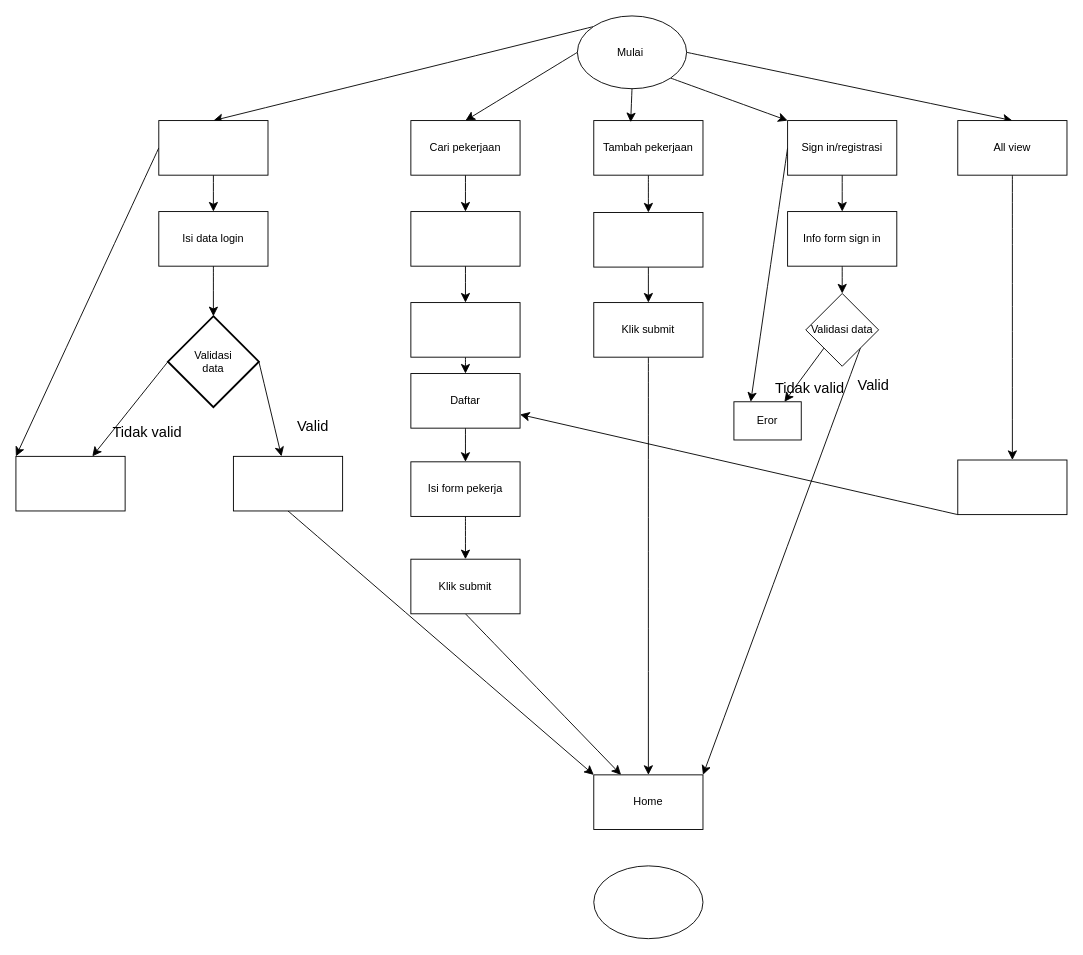
This 1083x955 diagram has some shape labels left out. Each missing label, with the centre of its shape:
Isi kata kunci: point 465,238
Login: point 213,147
Menampilkan data pekerjaan: point 465,329
Selesai: point 648,902
Tampilan eror: point 70,483
Tampilan seluruh data pekerjaan: point 1012,487
UI form tambah pekerjaan: point 648,239
